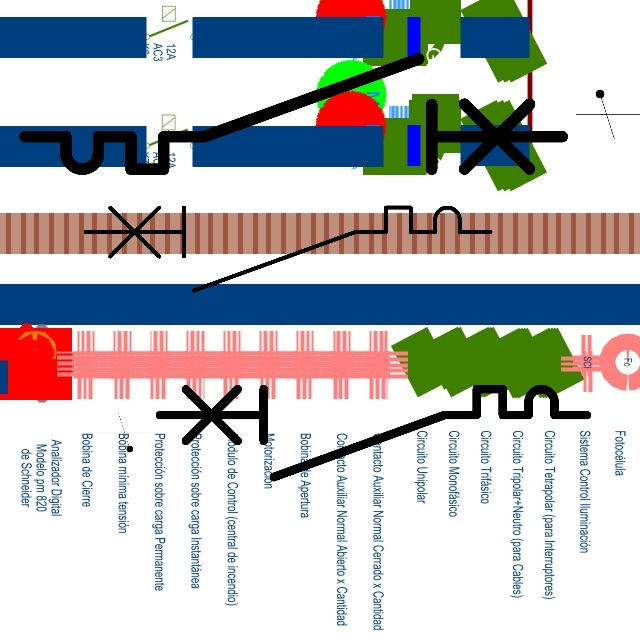interruptor_termomagnetico: (11, 45, 575, 183), (148, 378, 597, 488), (75, 197, 501, 301)
